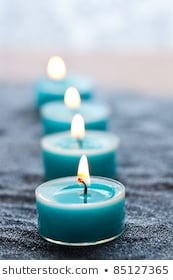Fire: (45, 55, 67, 80), (77, 156, 93, 189), (63, 85, 84, 109), (68, 113, 86, 140)
